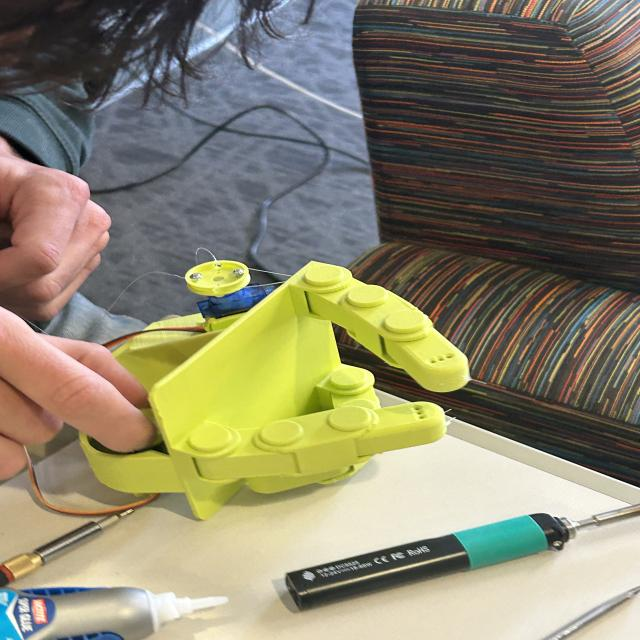prosthetic: (86, 255, 466, 517)
